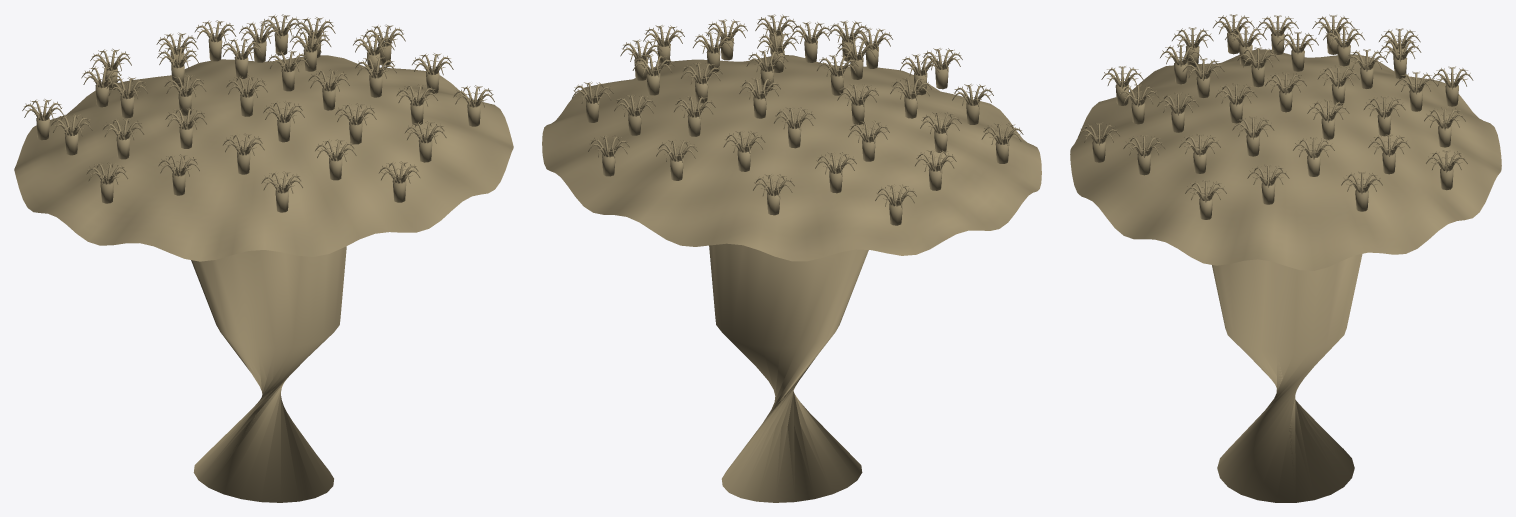
The model's file is softleather-desktop.glb.
3 renders of one model, left to right at view 1: azimuth 30°, elevation 25°; view 2: azimuth 150°, elevation 25°; view 3: azimuth 270°, elevation 25°, orthographic. The views are drawn at different scales.
Visible parts, largest first — view 1: folded-cap, leather-stalk, octocoral-tentacle, polyp-column, pinnule; view 2: folded-cap, leather-stalk, octocoral-tentacle, polyp-column, pinnule; view 3: folded-cap, leather-stalk, octocoral-tentacle, polyp-column, pinnule.
Boxes of the visible parts, left/top/right/bottom form: folded-cap: left=14, top=55, right=513, bottom=261; leather-stalk: left=191, top=246, right=346, bottom=502; octocoral-tentacle: left=22, top=15, right=494, bottom=194; polyp-column: left=36, top=32, right=480, bottom=212; pinnule: left=24, top=14, right=493, bottom=187; folded-cap: left=542, top=55, right=1041, bottom=261; leather-stalk: left=709, top=243, right=868, bottom=502; octocoral-tentacle: left=572, top=15, right=1023, bottom=207; polyp-column: left=586, top=32, right=1009, bottom=225; pinnule: left=573, top=14, right=1021, bottom=200; folded-cap: left=1070, top=49, right=1501, bottom=270; leather-stalk: left=1212, top=254, right=1362, bottom=502; octocoral-tentacle: left=1078, top=15, right=1473, bottom=202; polyp-column: left=1092, top=32, right=1458, bottom=219; pinnule: left=1081, top=14, right=1470, bottom=195.
Bounding box in the file's own units: 0.62 × 0.5544 × 0.5332.
